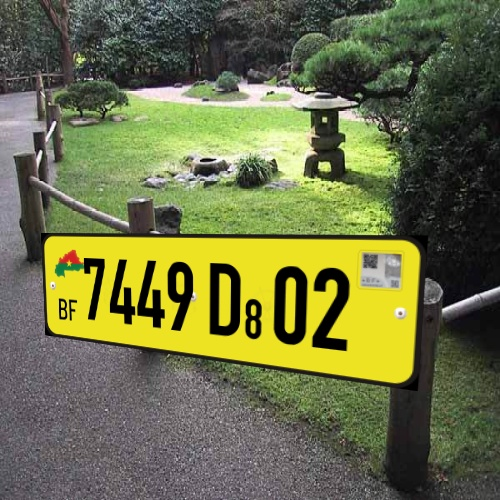plate: (33, 220, 433, 401)
